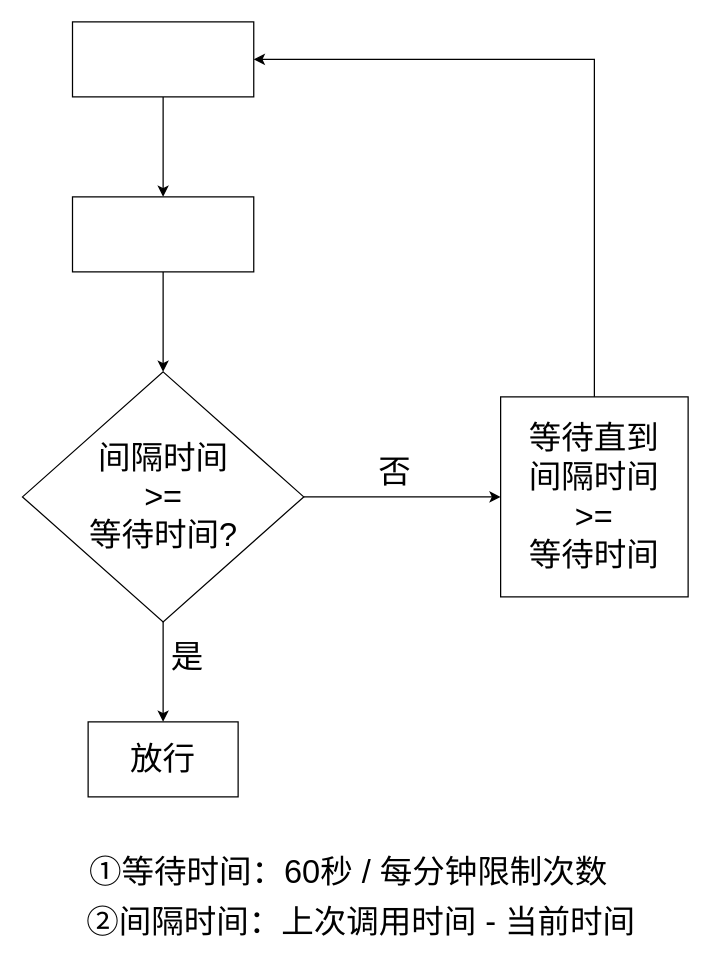
This 710x969 diagram has some shape labels left out. The centre of each missing label's shape, as x and y in pixels:
"调用API" belongs at point (162, 59).
"进入限流器" belongs at point (162, 234).
